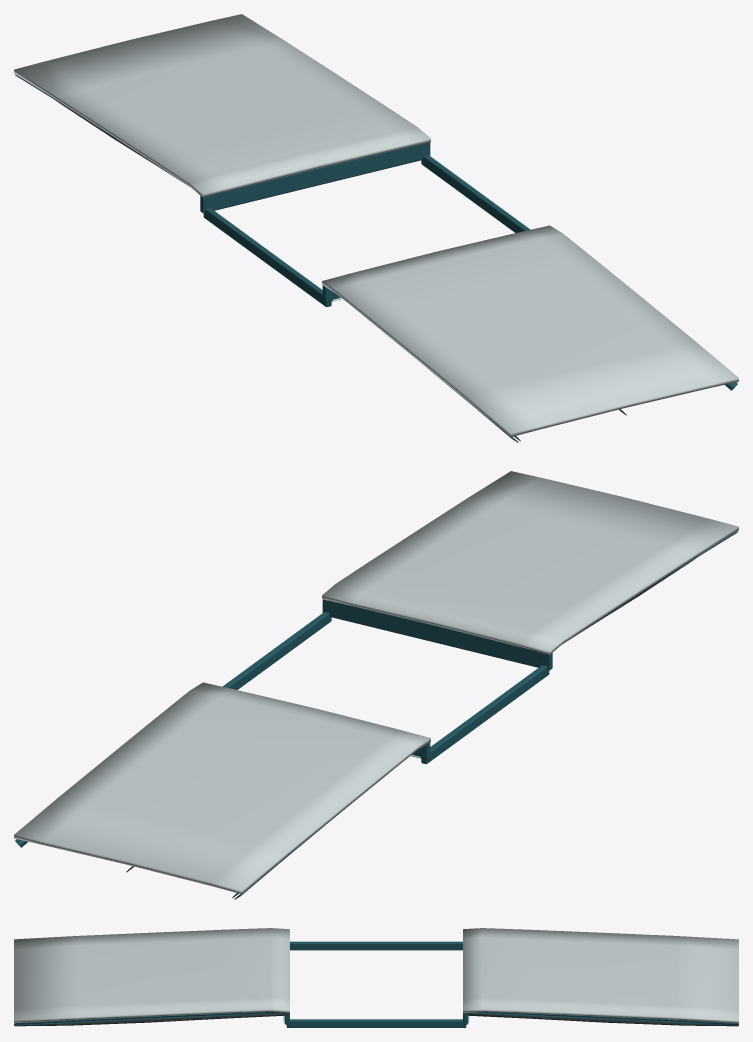
Rendered from SM_StationRoofPanel.fbx.
The picture shows the model from 3 angles, top to bottom: view 1: azimuth 30°, elevation 25°; view 2: azimuth 150°, elevation 25°; view 3: azimuth 270°, elevation 25°; orthographic projection. The views are drawn at different scales.
Visible parts, largest first — view 1: SM_StationRoofPanel_UEExport; view 2: SM_StationRoofPanel_UEExport; view 3: SM_StationRoofPanel_UEExport.
Part boxes in pixels (box(x1,y1,x2,y2)): SM_StationRoofPanel_UEExport: box(14, 14, 738, 442); SM_StationRoofPanel_UEExport: box(14, 471, 738, 899); SM_StationRoofPanel_UEExport: box(14, 928, 738, 1027).
Size of the model in its own units: 299 by 1130 by 36.
